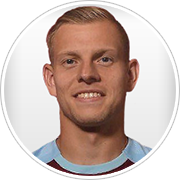face: (38, 35, 141, 128)
